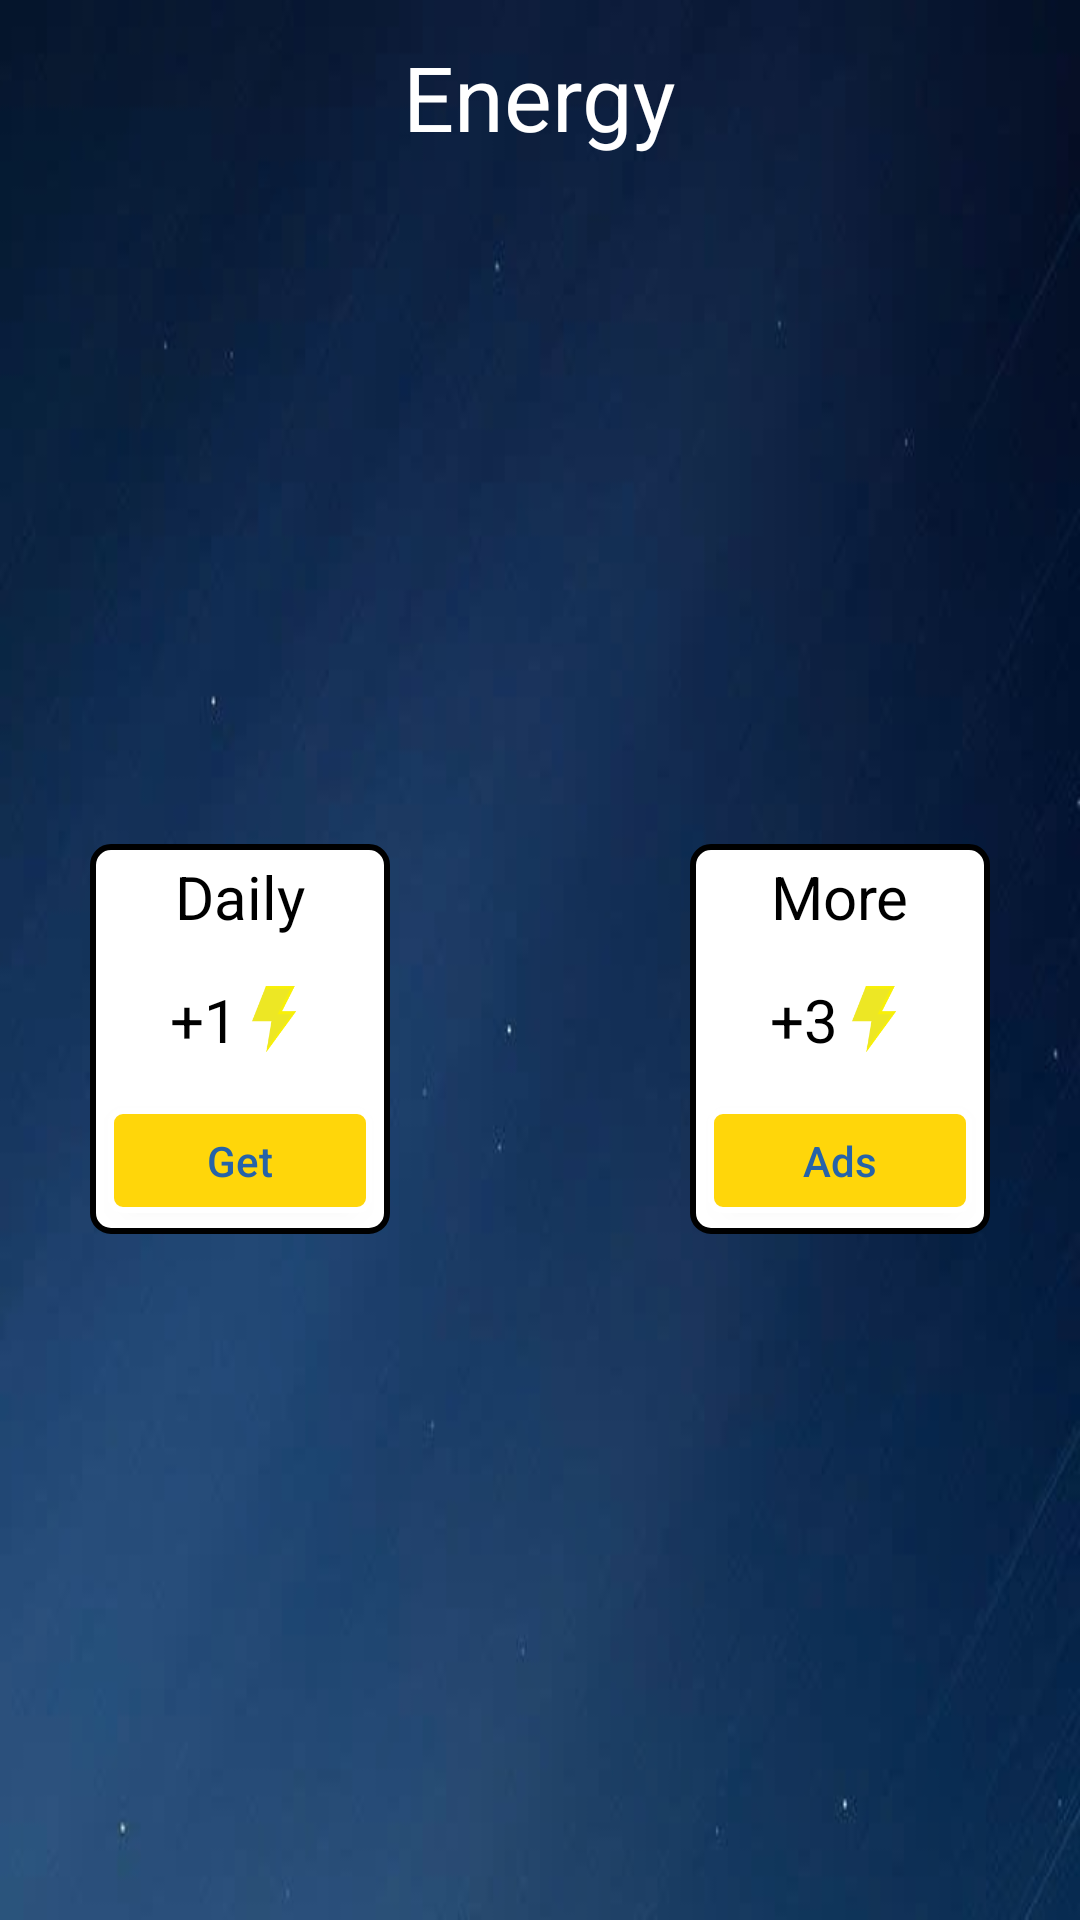

Named icons in this screenshot (1080px x 1920px) and their bounding boxes, rect(x1, y1, x2, y2):
bolt: rect(252, 986, 296, 1052), rect(852, 986, 896, 1052)
